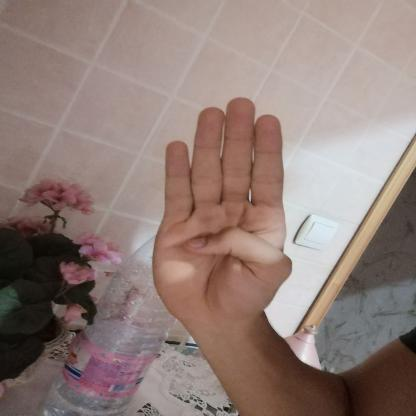KAAF: (136, 84, 310, 342)
